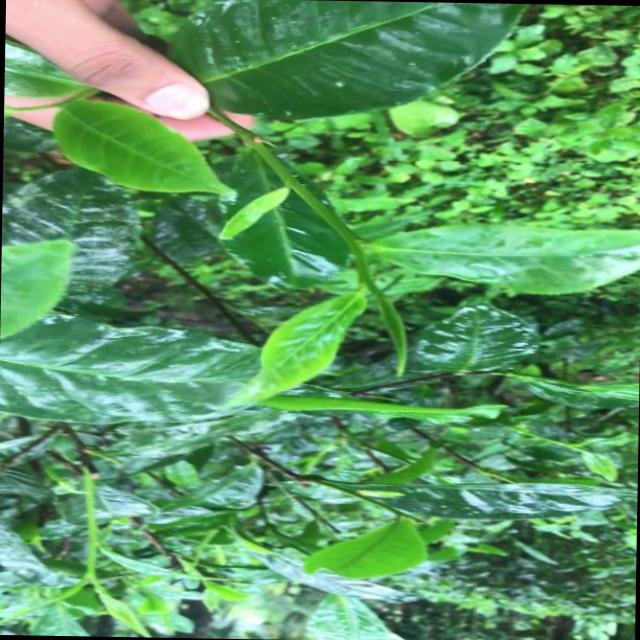Stem: (340, 227, 359, 246), (85, 566, 94, 576)
